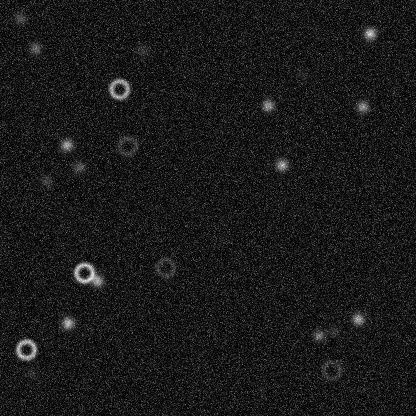Ring: (115, 133, 139, 157), (319, 358, 343, 382), (107, 76, 131, 100), (153, 255, 177, 279), (14, 337, 38, 361), (72, 260, 96, 284)
Spot: (310, 327, 326, 343), (12, 10, 28, 26), (273, 157, 289, 173), (295, 66, 311, 82), (325, 323, 341, 339), (37, 172, 53, 188), (133, 42, 149, 58), (24, 366, 40, 382), (259, 97, 275, 113), (89, 272, 105, 288), (59, 315, 75, 331), (361, 25, 377, 41), (58, 136, 74, 152), (70, 158, 86, 174), (349, 311, 365, 327), (27, 40, 43, 56), (354, 98, 370, 114)
